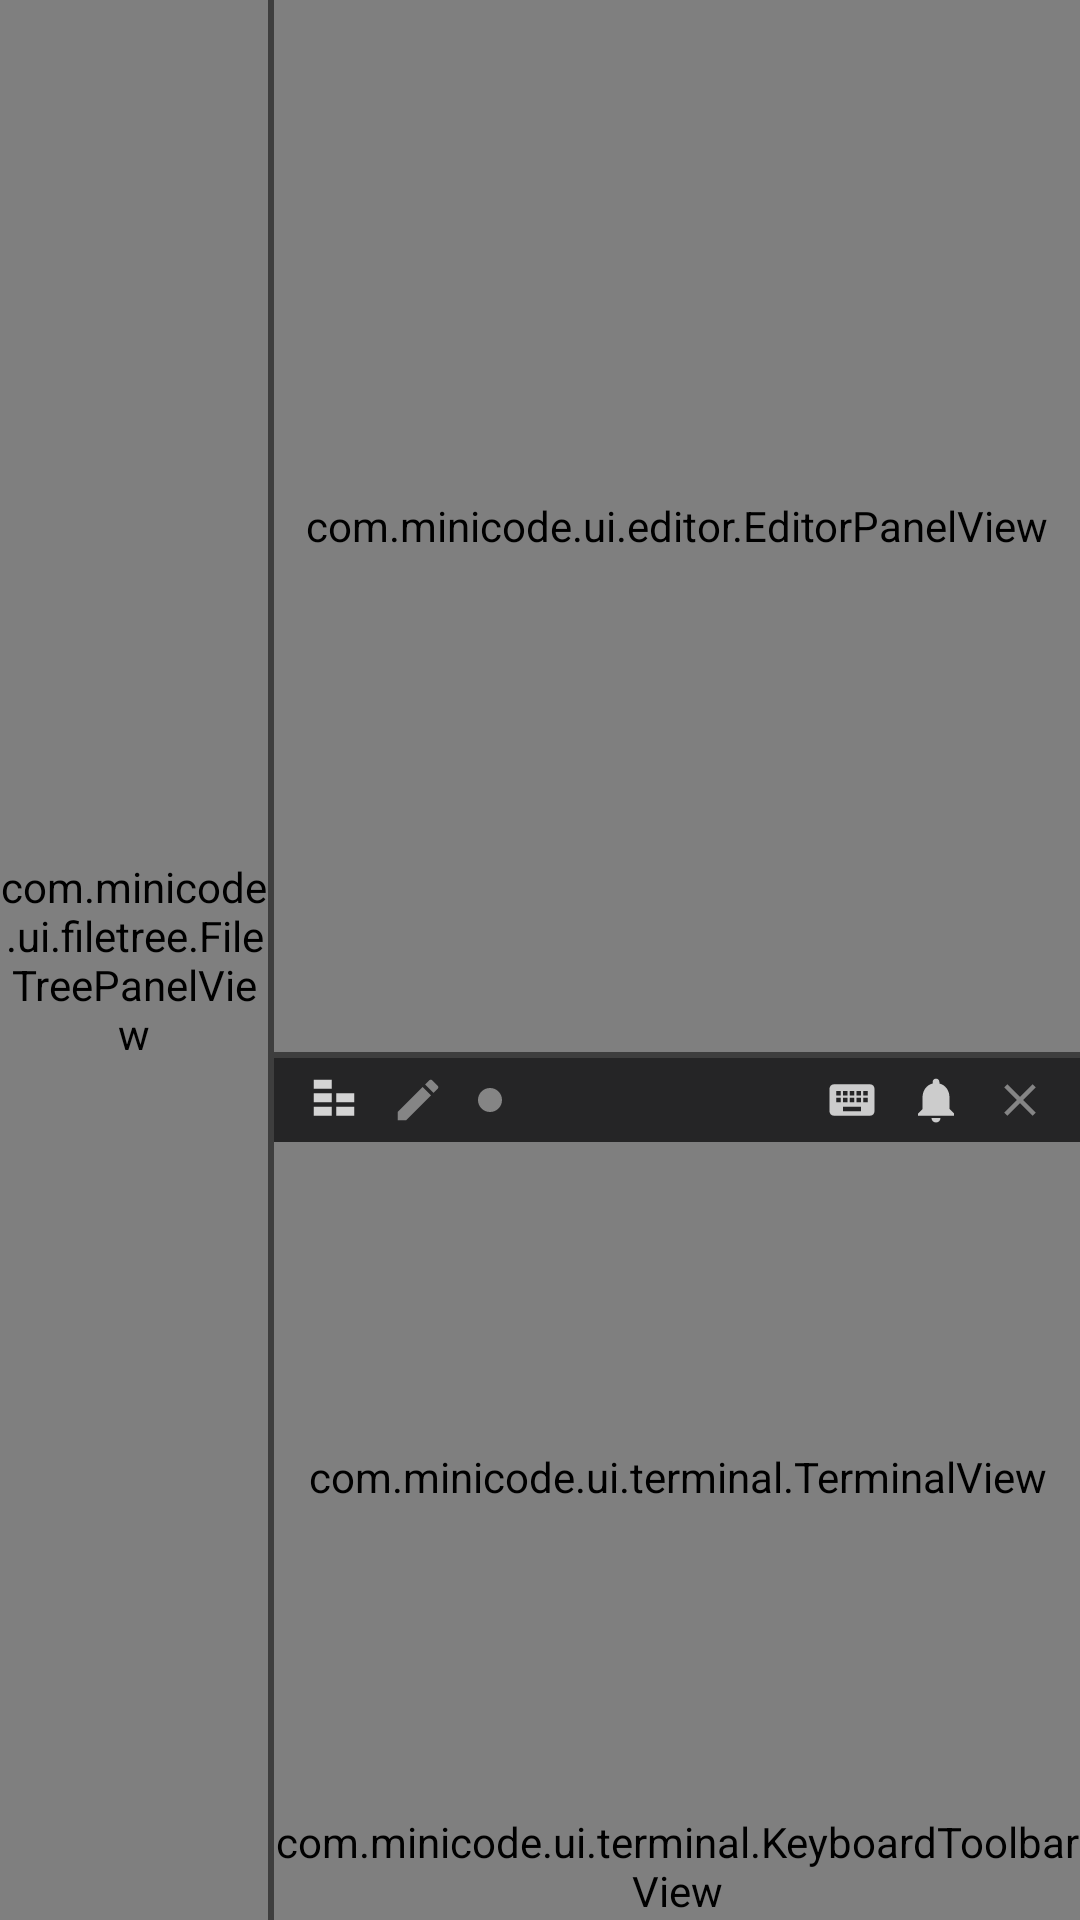

Screen size 1080 × 1920. Icon name, then its center in pixels as point (x, y):
Disconnect: point (1020, 1100)
Toggle bell notifications: point (936, 1100)
Toggle editor: point (418, 1100)
Toggle file tree: point (334, 1097)
Toggle keyboard: point (852, 1100)
